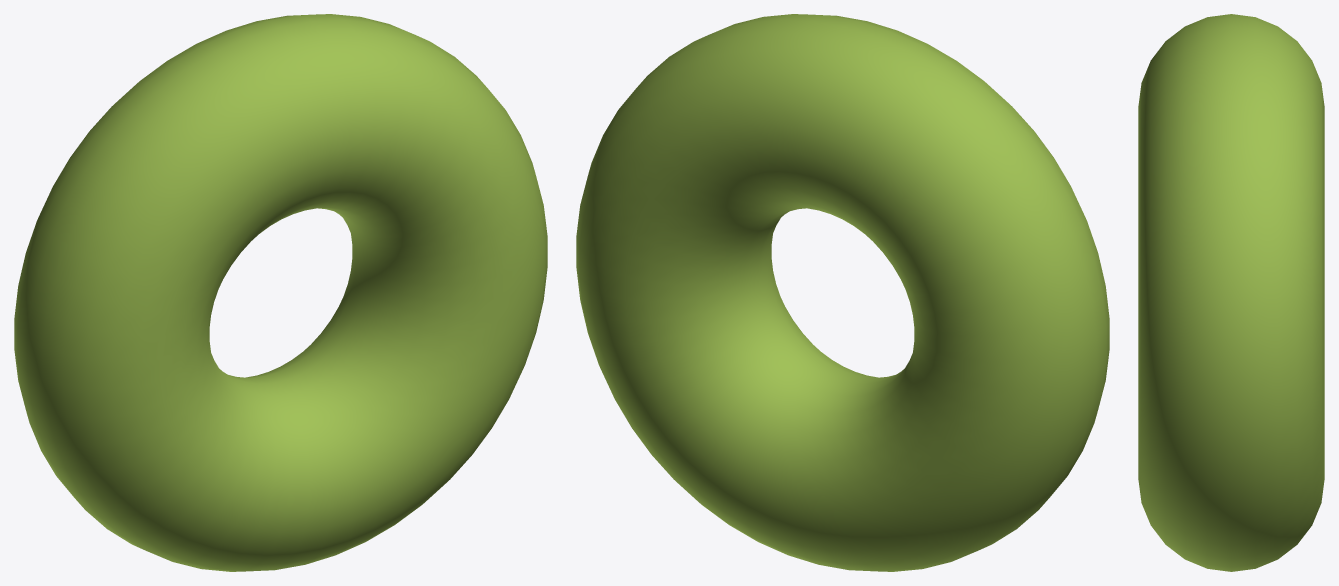
The model's file is fragtura.glb.
The picture shows the model from 3 angles, left to right: view 1: azimuth 30°, elevation 25°; view 2: azimuth 150°, elevation 25°; view 3: azimuth 270°, elevation 25°; orthographic projection. The views are drawn at different scales.
Visible parts, largest first — view 1: Torus001; view 2: Torus001; view 3: Torus001.
Boxes of the visible parts, <box> form: Torus001: <box>14,14,547,571</box>; Torus001: <box>576,14,1109,571</box>; Torus001: <box>1138,14,1324,571</box>.
Bounding box in the file's own units: 1.5 × 1.5 × 0.5.
